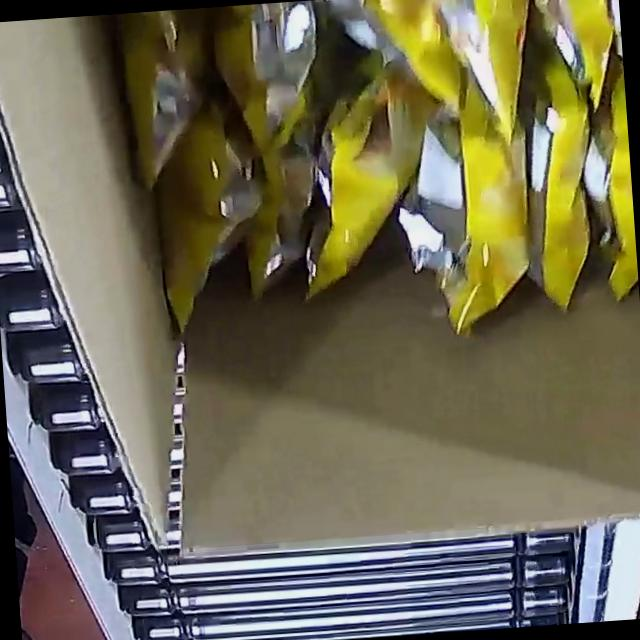salted: (79, 0, 640, 364)
